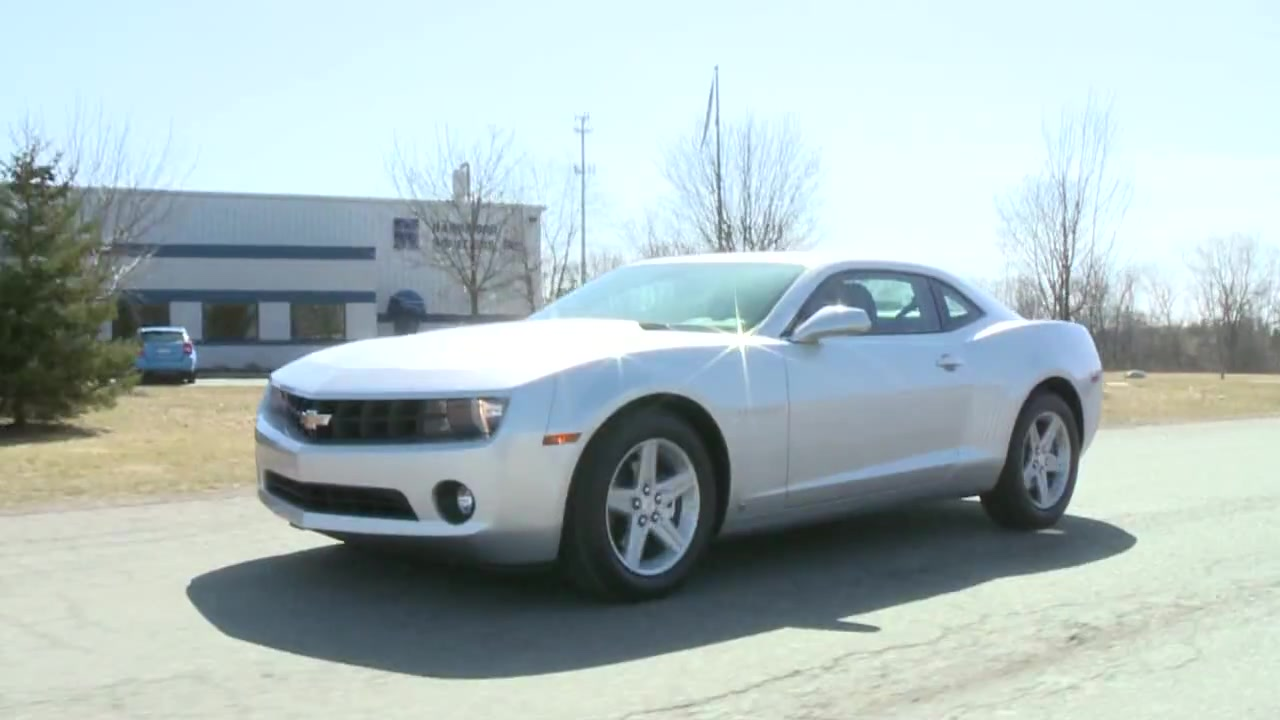car: (249, 250, 1112, 603)
